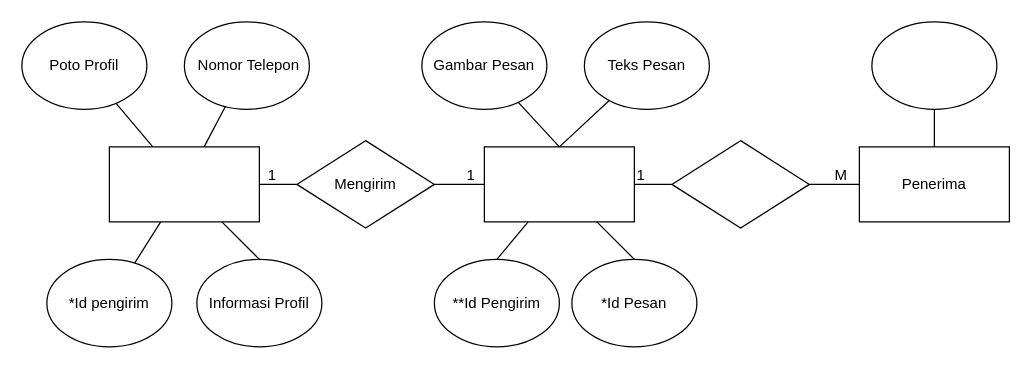
This 1031x369 diagram has some shape labels left out. The shapes that lost their labels are listed below. From the top down, each one's centre as x and y in pixels, then its label:
At [934,65]: "**Id Pesan".
At [183,184]: "Pengirim".
At [558,184]: "Pesan".
At [740,183]: "Menerima".
